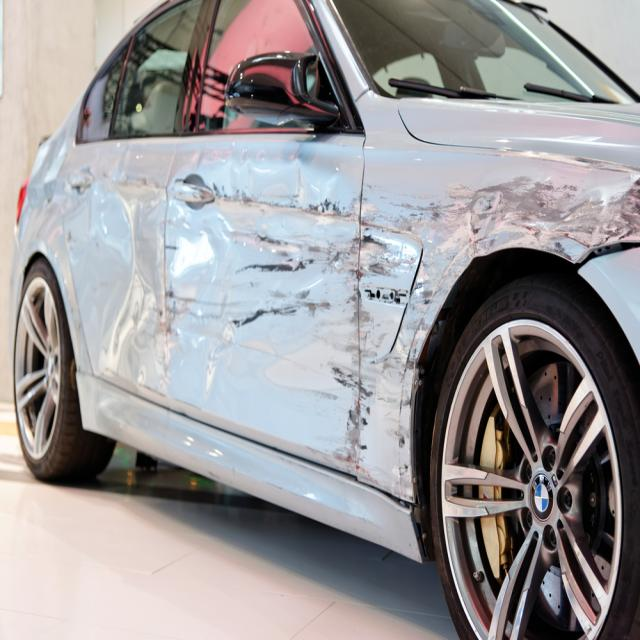dent: (167, 159, 361, 407), (70, 188, 146, 378)
scratch: (356, 172, 640, 494)
